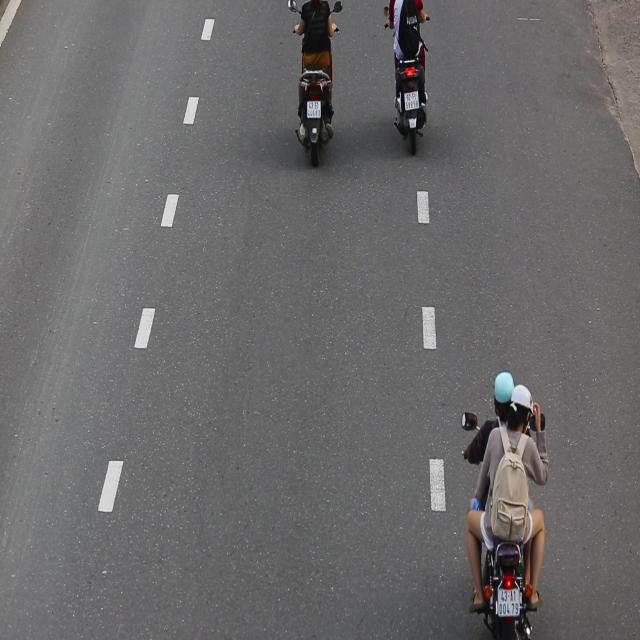motorbike: (459, 369, 551, 638)
